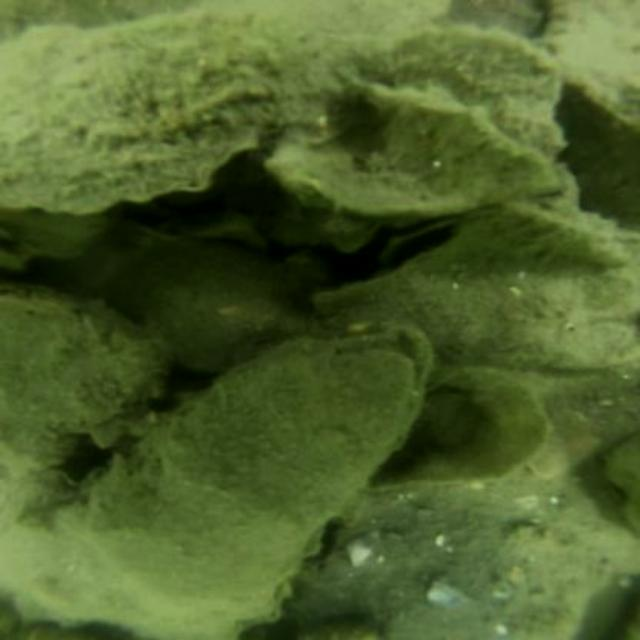Oyster-Closed: (91, 328, 445, 613), (0, 11, 382, 218), (320, 212, 628, 374), (259, 87, 580, 237), (0, 491, 291, 638), (6, 280, 170, 476), (84, 231, 305, 369), (387, 16, 575, 160), (353, 364, 557, 496), (544, 1, 638, 126)
Oyster-Open: (367, 213, 465, 280)
